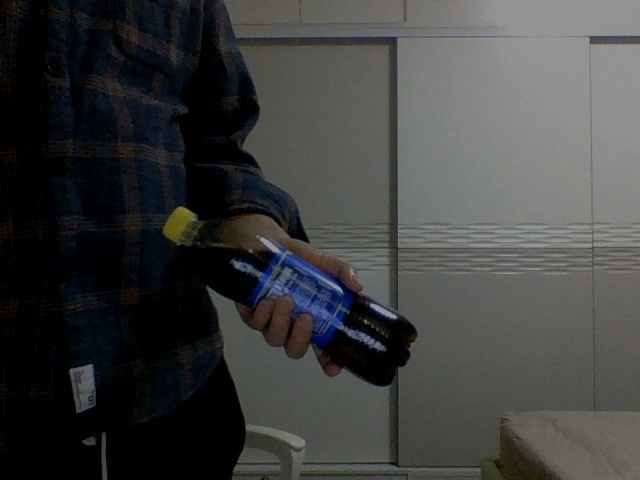Cola: (162, 210, 417, 387)
